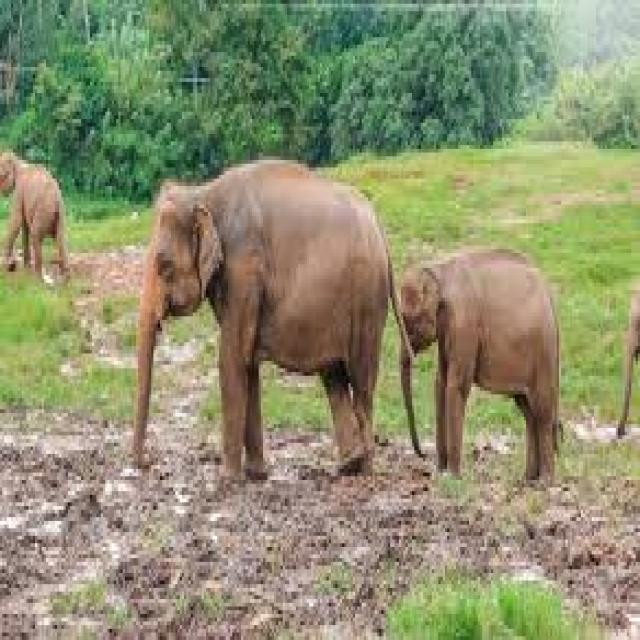Elephant: (132, 146, 393, 477), (396, 241, 568, 502), (1, 133, 74, 289)
